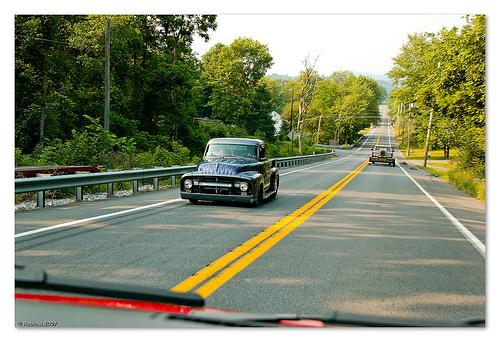truck: (179, 136, 281, 206), (368, 144, 395, 167)
